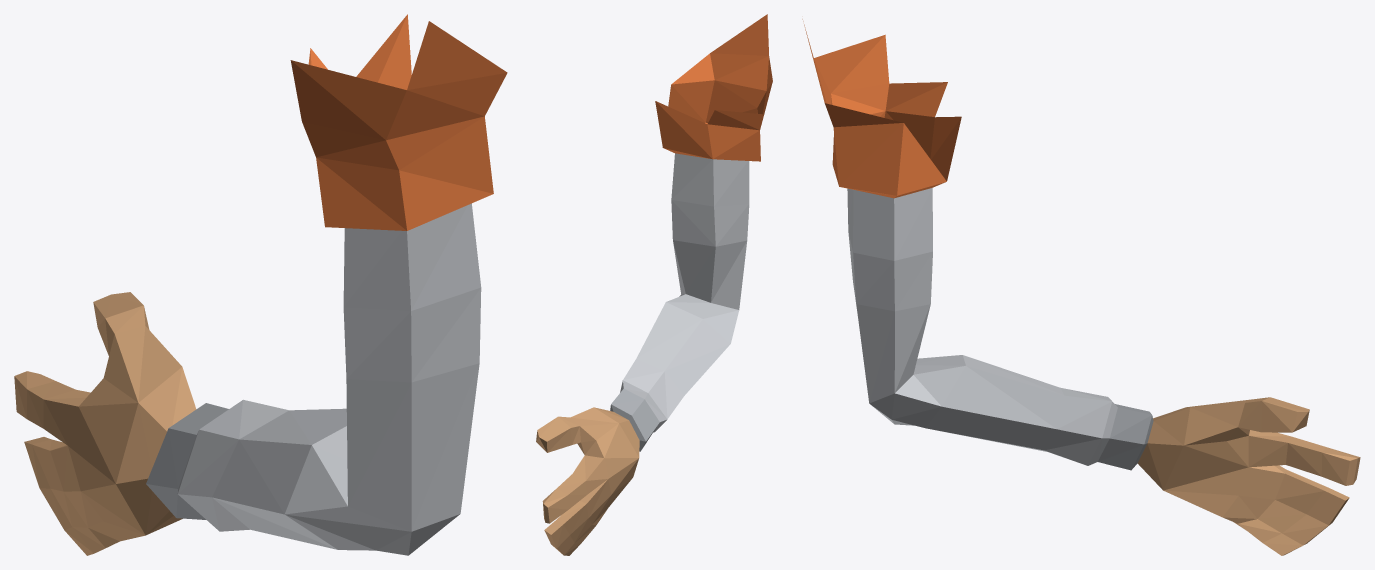
The model's file is Daughter_01_ArmL_72_04_B.obj.
The picture shows the model from 3 angles, left to right: view 1: azimuth 30°, elevation 25°; view 2: azimuth 150°, elevation 25°; view 3: azimuth 270°, elevation 25°; orthographic projection. The views are drawn at different scales.
Parts seen in each view (by area): view 1: Daughter_01_ArmL_72_04_B; view 2: Daughter_01_ArmL_72_04_B; view 3: Daughter_01_ArmL_72_04_B.
Boxes of the visible parts, left/top/right/bottom form: Daughter_01_ArmL_72_04_B: left=14, top=14, right=507, bottom=555; Daughter_01_ArmL_72_04_B: left=536, top=14, right=772, bottom=555; Daughter_01_ArmL_72_04_B: left=802, top=19, right=1360, bottom=555.
Bounding box in the file's own units: 0.1622 × 0.6208 × 0.5901.
Materials: 1 (1 with a texture image).
